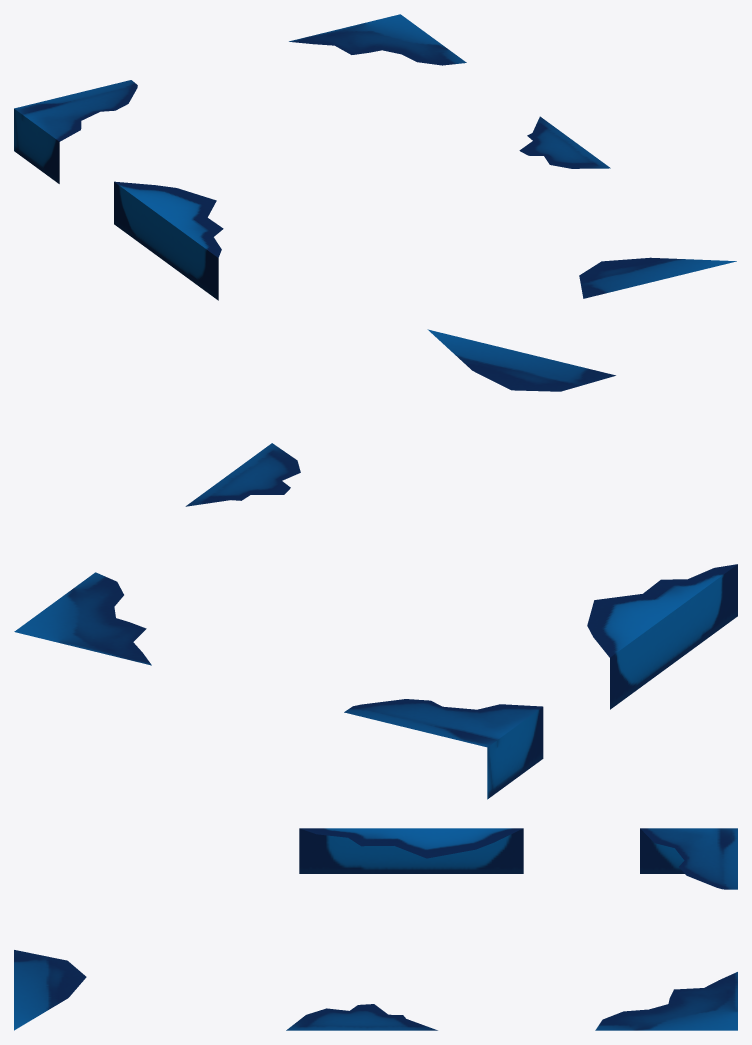
Rendered from Water_01.FBX.
3 renders of one model, top to bottom at view 1: azimuth 30°, elevation 25°; view 2: azimuth 150°, elevation 25°; view 3: azimuth 270°, elevation 25°, orthographic. The views are drawn at different scales.
Parts seen in each view (by area): view 1: Water_01; view 2: Water_01; view 3: Water_01.
Part boxes in pixels (x1,y1,x2,y2): Water_01: (14,14,736,300); Water_01: (14,329,737,799); Water_01: (14,828,737,1030).
Size of the model in its own units: 17.49 by 1.84 by 26.45.
